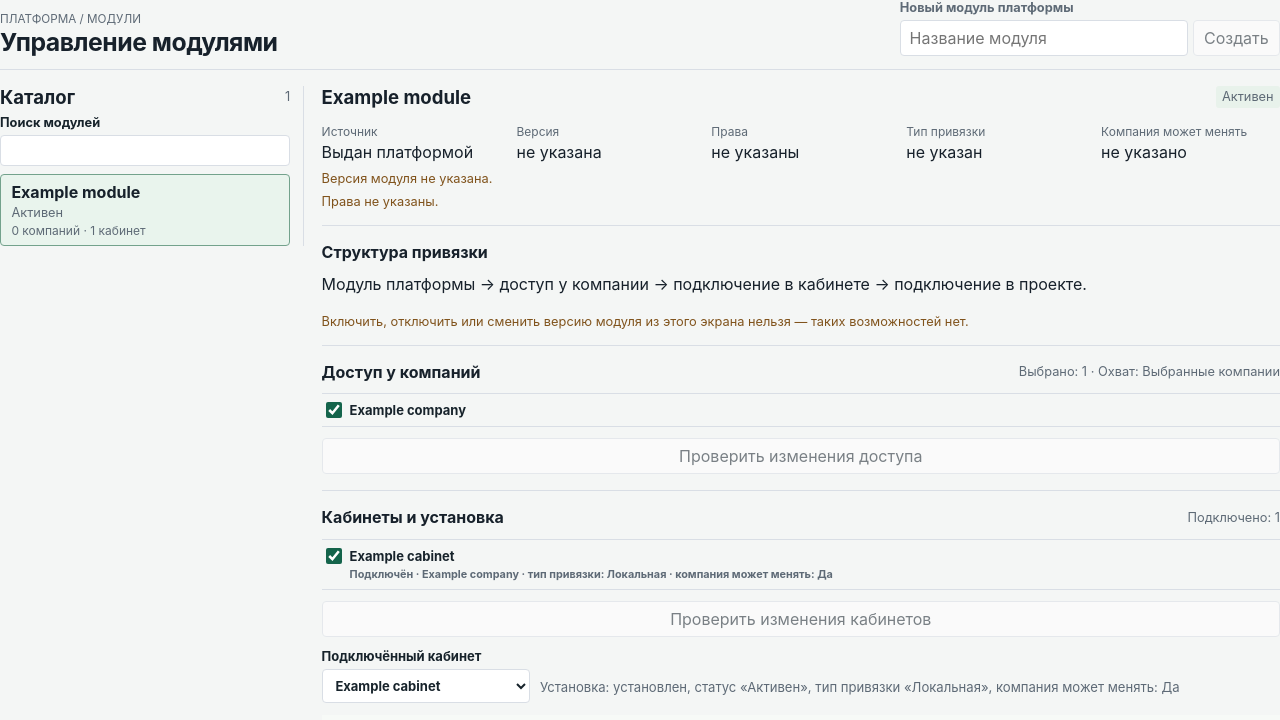
Test: module binding owner workflow › confirms grant revocation, warns about cascaded bindings, and verifies empty readback
The image size is (1280, 720).
Click the checkbox labelled "Example company" at (334, 410), box [326,402,342,418]
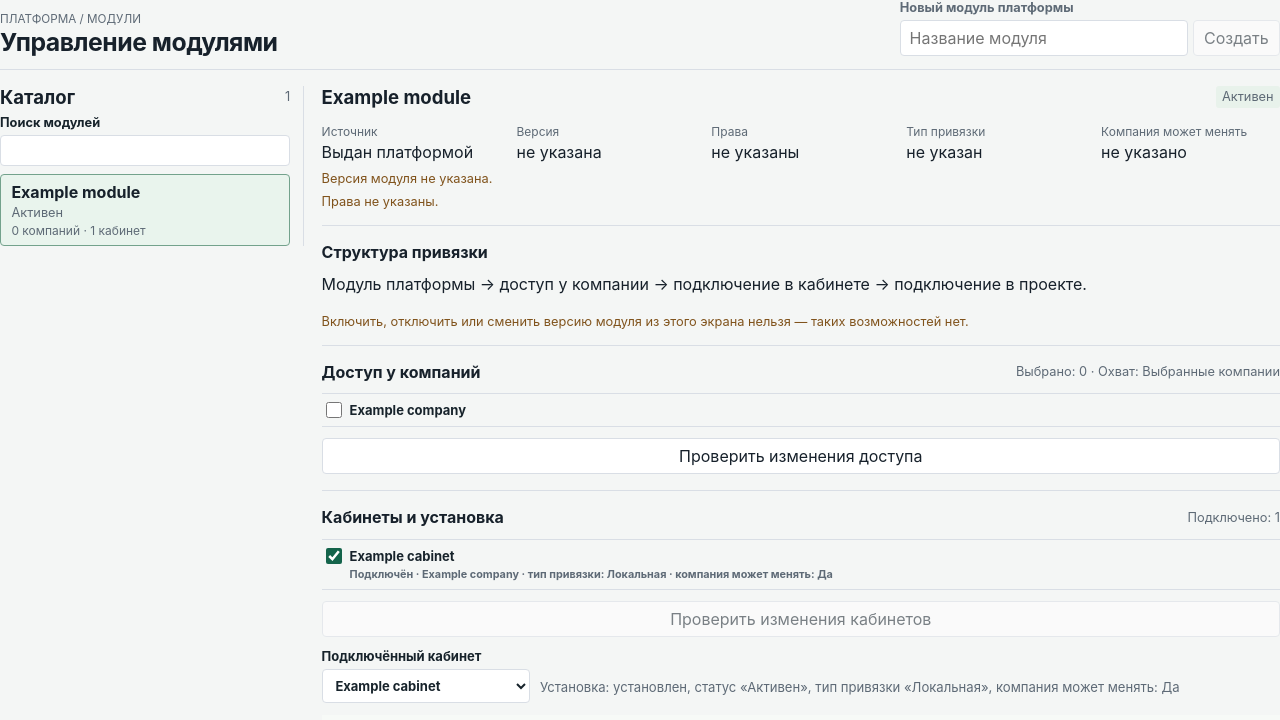
Click the button "Проверить изменения доступа" at (801, 456), box [322,438,1279,474]
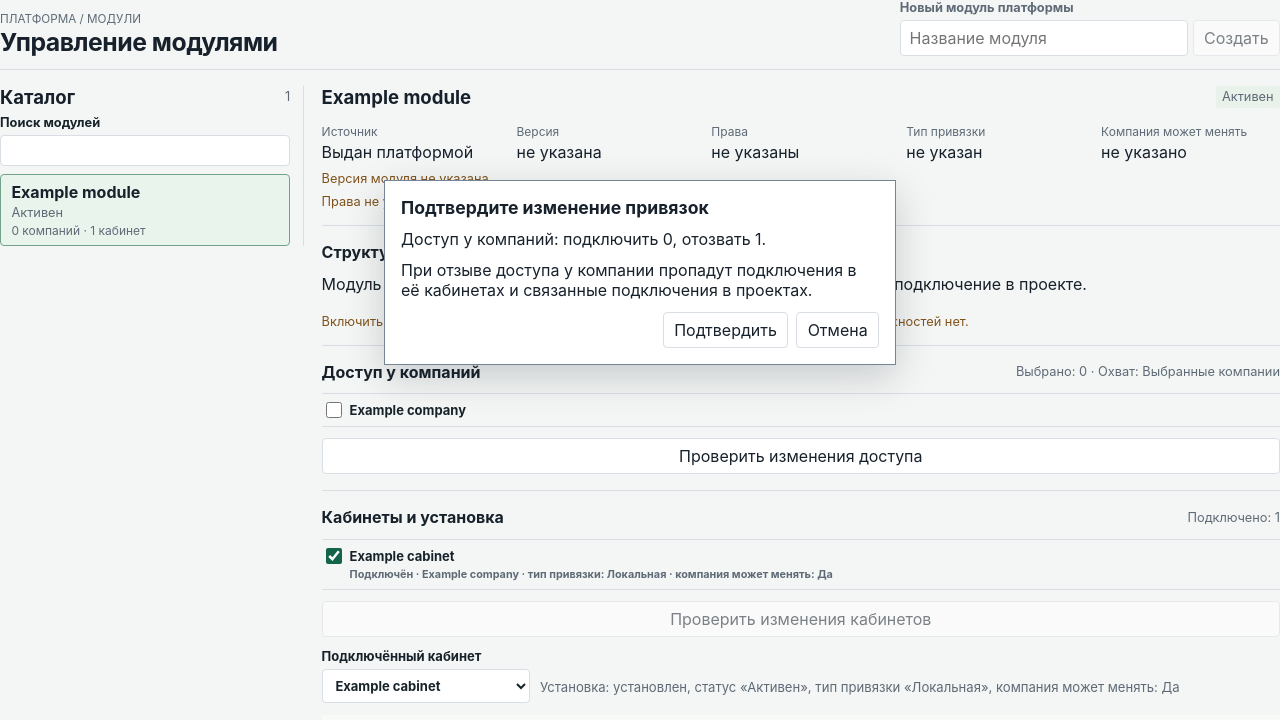
Expected: the dialog shows "подключить 0, отозвать 1", [401,229,766,249]
Expected: the dialog shows "пропадут подключения в её кабинетах", [401,260,857,300]
Click the button "Подтвердить" at (726, 330), box [663,312,788,348]
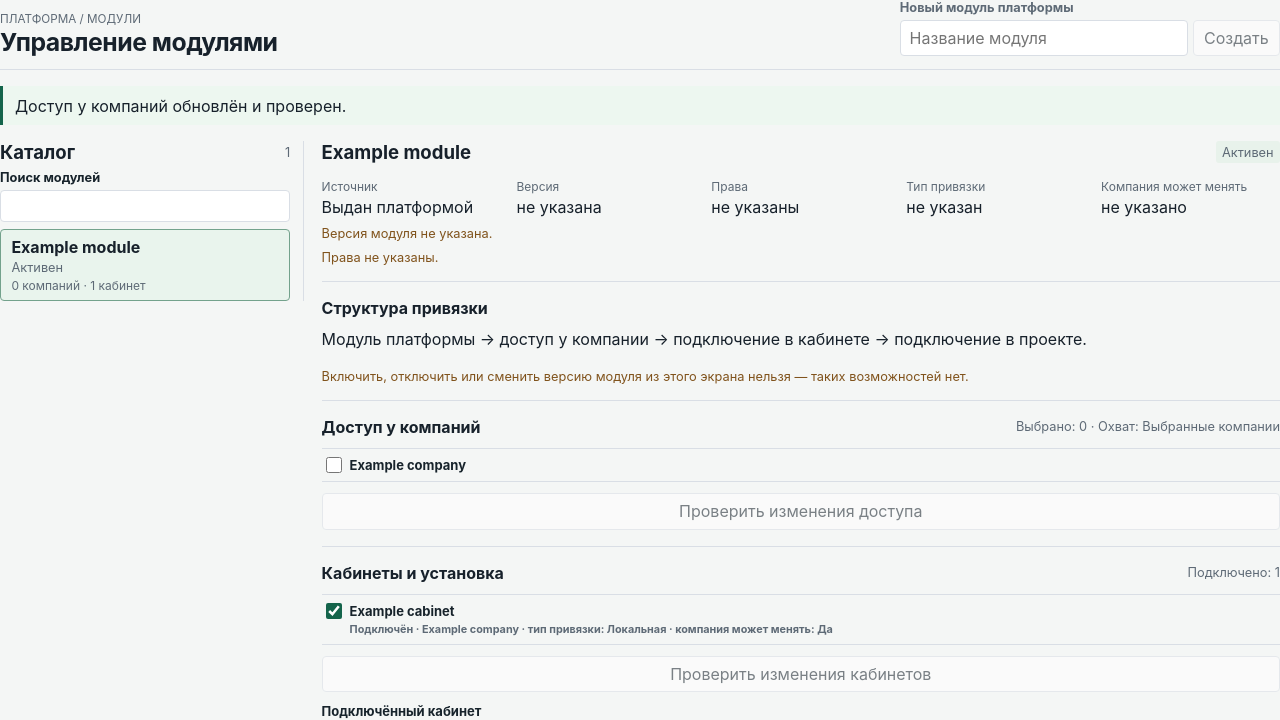
Expected: the checkbox labelled "Example company" is not checked, [326,457,342,473]
